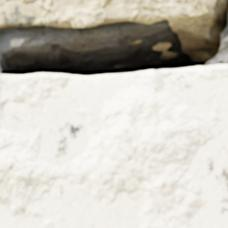brick: (0, 65, 227, 227), (0, 0, 225, 28)
crack: (0, 0, 227, 76)
